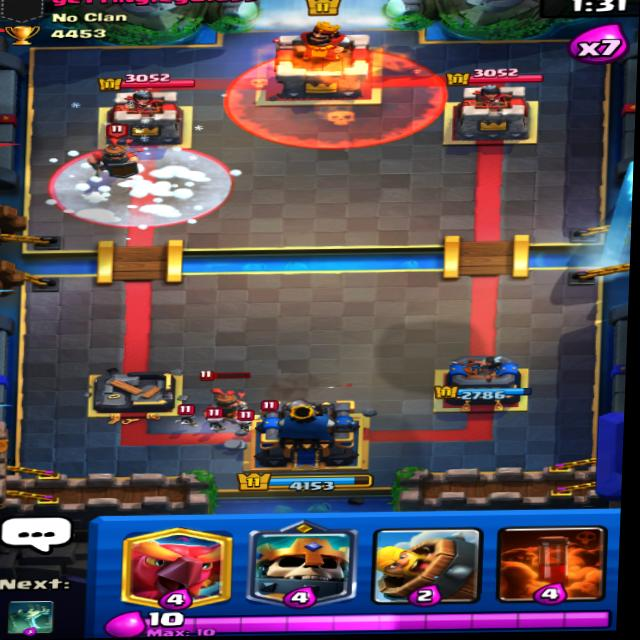Freeze: (49, 143, 234, 228)
Poison: (217, 45, 449, 151)
Royalrecruits: (82, 129, 143, 186), (189, 383, 244, 424)
Skeleton: (230, 411, 262, 431), (176, 405, 207, 424), (203, 410, 227, 432)
